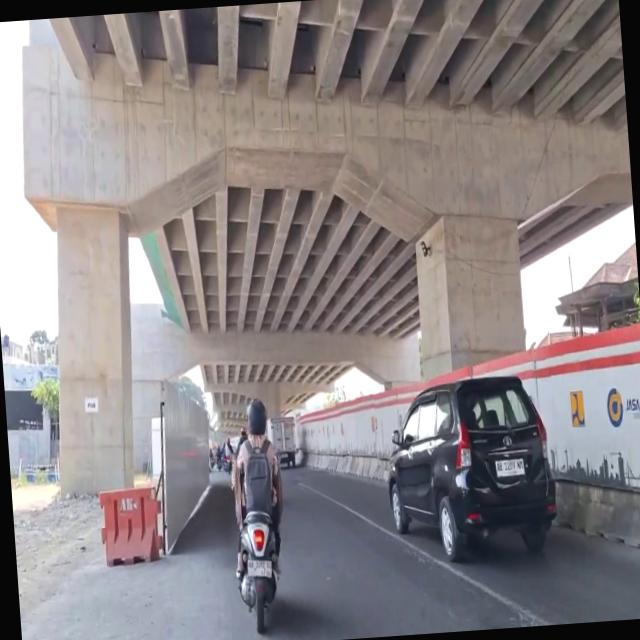WithHelmet: (223, 396, 288, 585)
